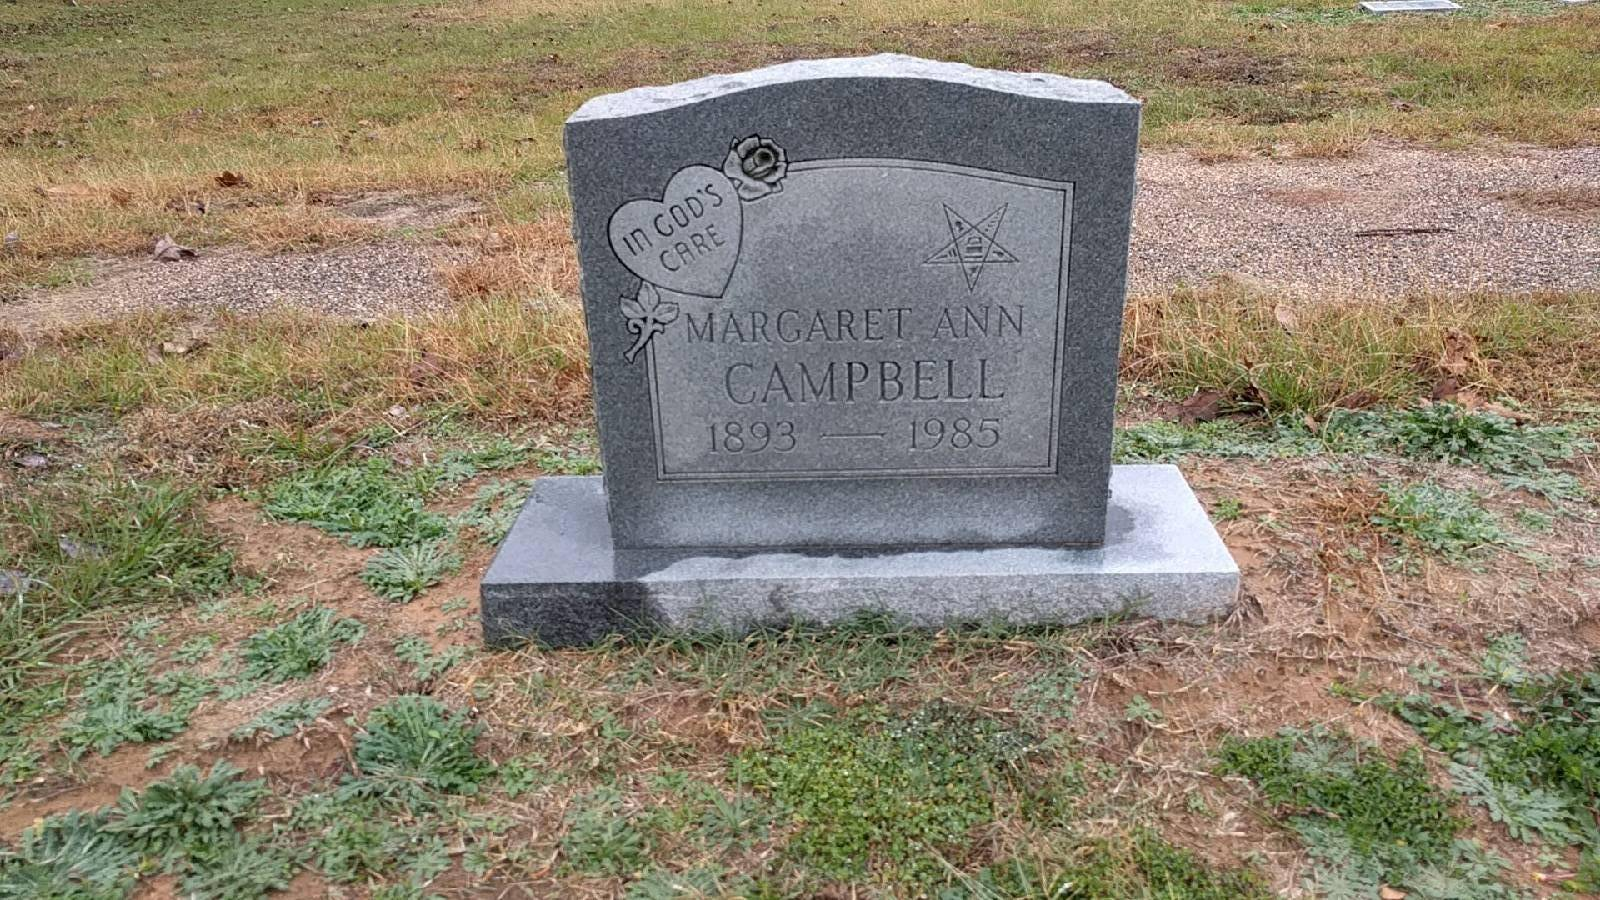upright: (481, 54, 1236, 637)
